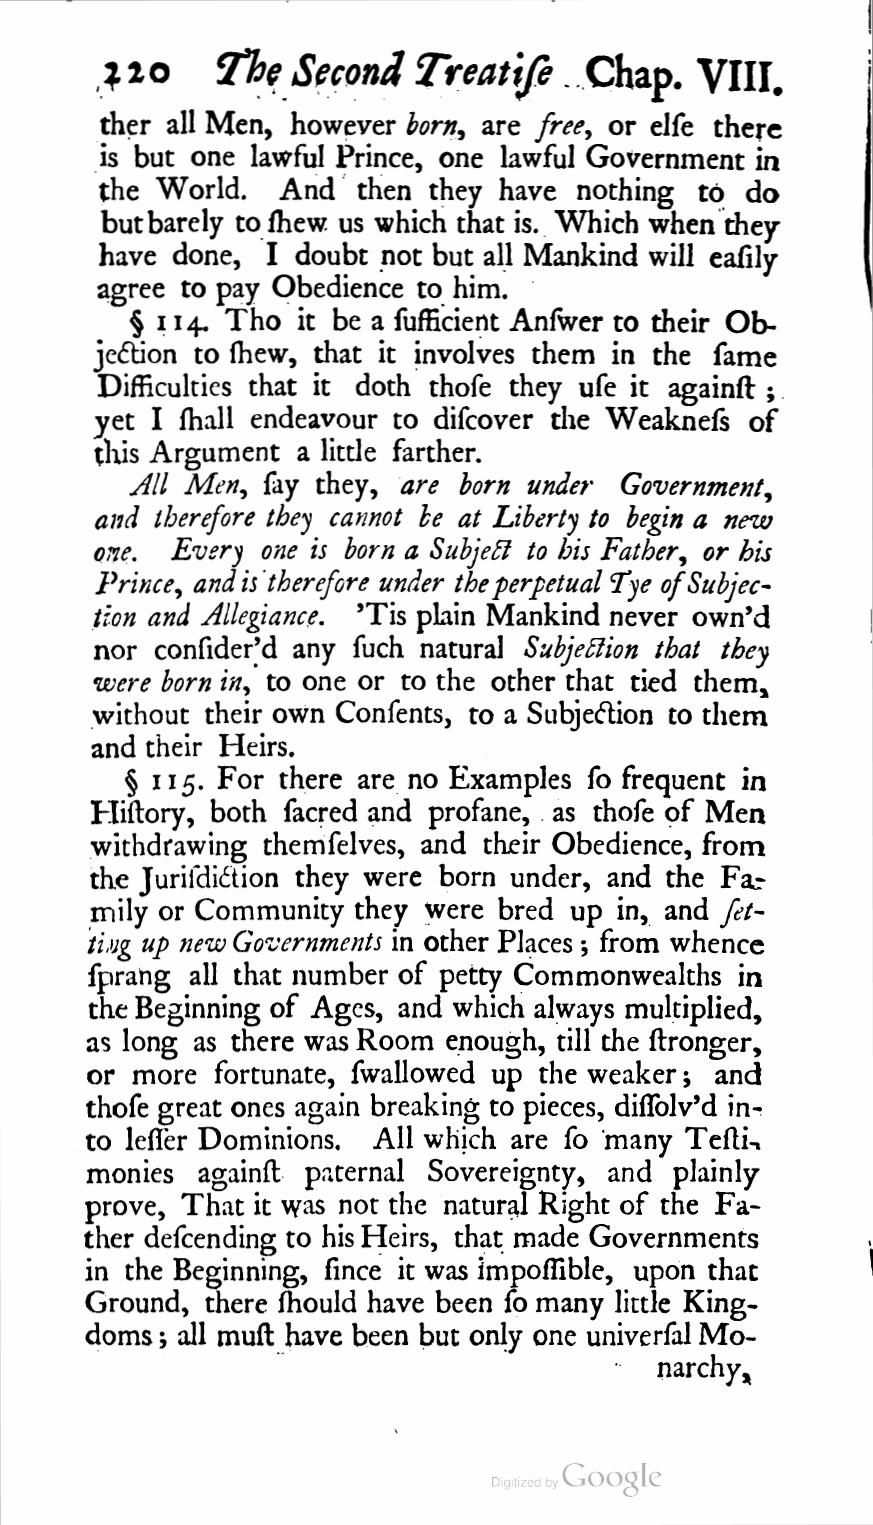bottom_p: (92, 108, 786, 307)
catchword: (654, 1351, 753, 1388)
full_p: (90, 468, 777, 760), (90, 306, 782, 470)
header: (211, 44, 786, 104)
page_num: (102, 57, 173, 90)
top_p: (77, 761, 770, 1355)
